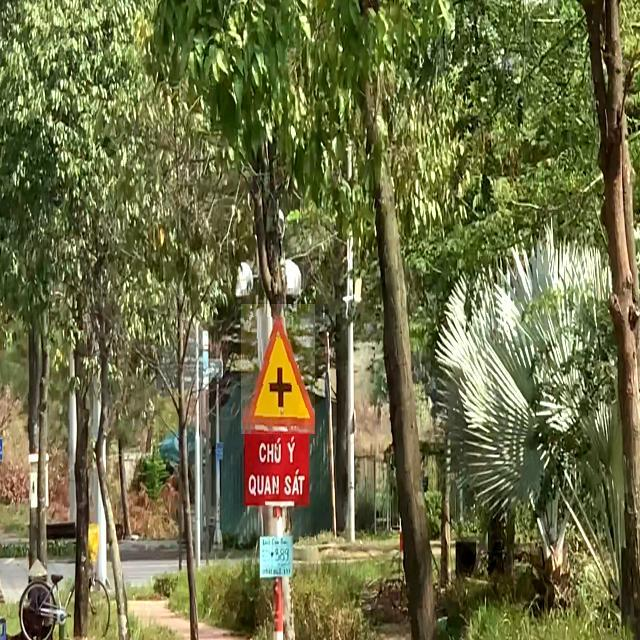W-205a: (241, 304, 315, 434)
